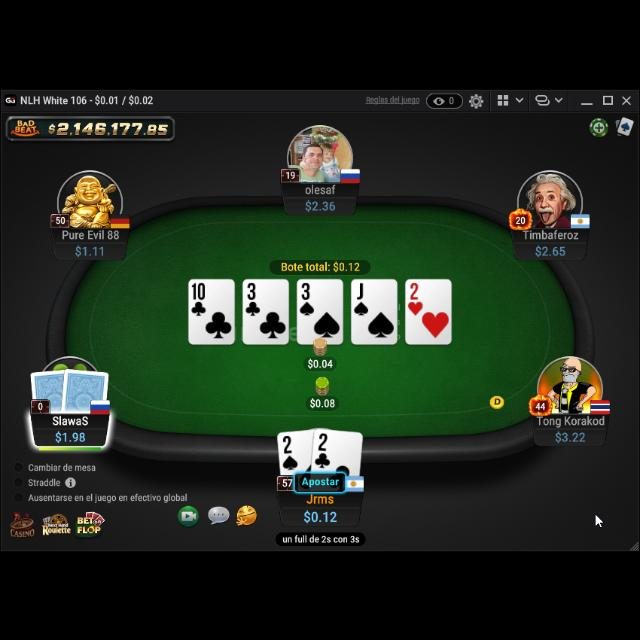2c: (312, 430, 332, 468), (314, 430, 332, 468)
2h: (406, 279, 424, 315)
2s: (280, 432, 300, 470)
3c: (244, 281, 262, 317)
3s: (300, 280, 314, 316)
4h: (407, 279, 425, 315)
Js: (352, 279, 370, 315)
Tc: (191, 280, 209, 316)
bet_text: (309, 392, 337, 406), (308, 354, 334, 366)
card_back: (60, 364, 111, 420), (29, 366, 71, 414)
dealer: (487, 391, 507, 409)
pot_text: (280, 258, 362, 270)
stack_text: (302, 502, 338, 522), (553, 427, 587, 441), (303, 195, 337, 209), (54, 427, 86, 441), (534, 241, 566, 255), (74, 241, 106, 255)
